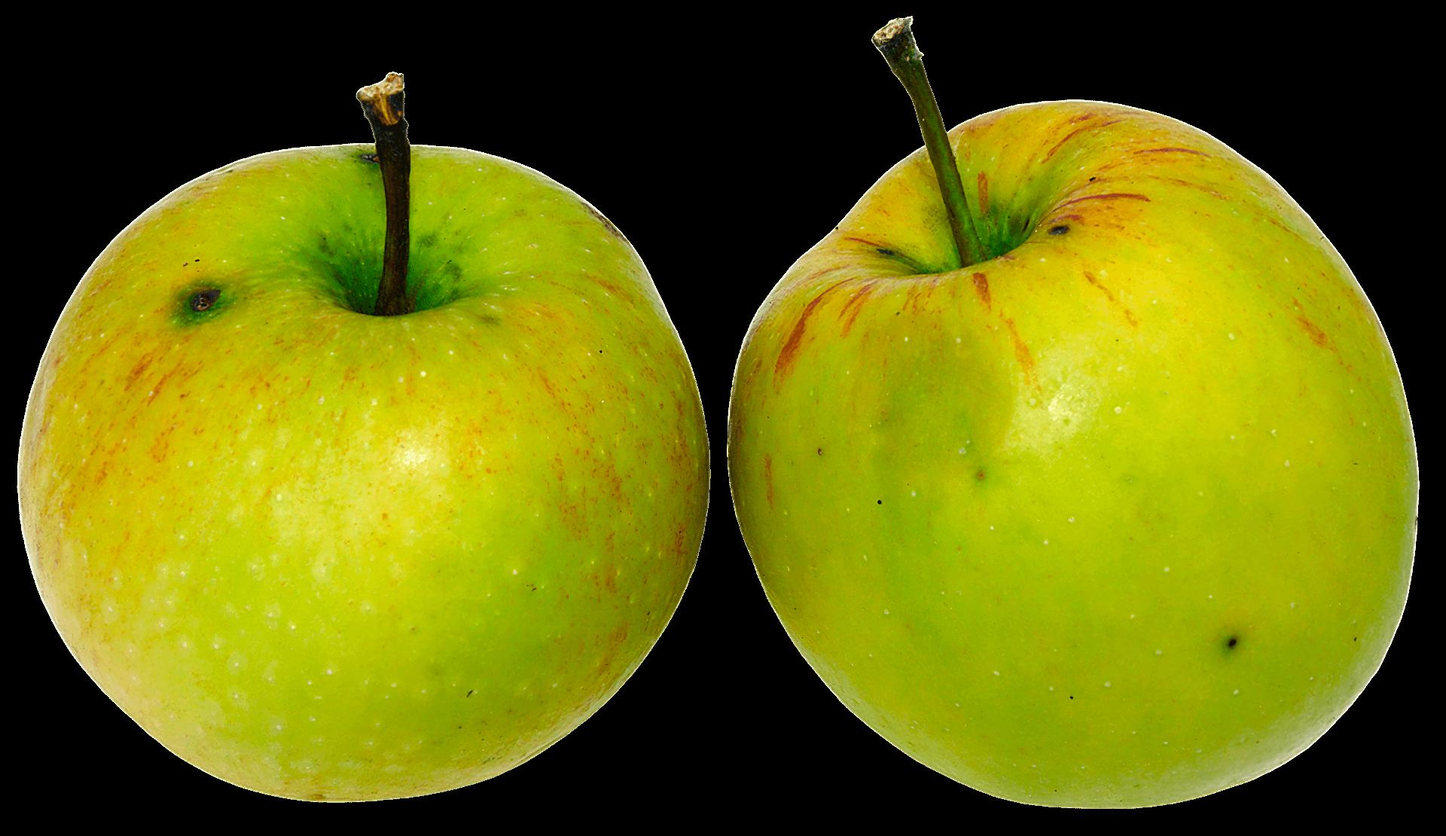apples: (23, 19, 1431, 811)
